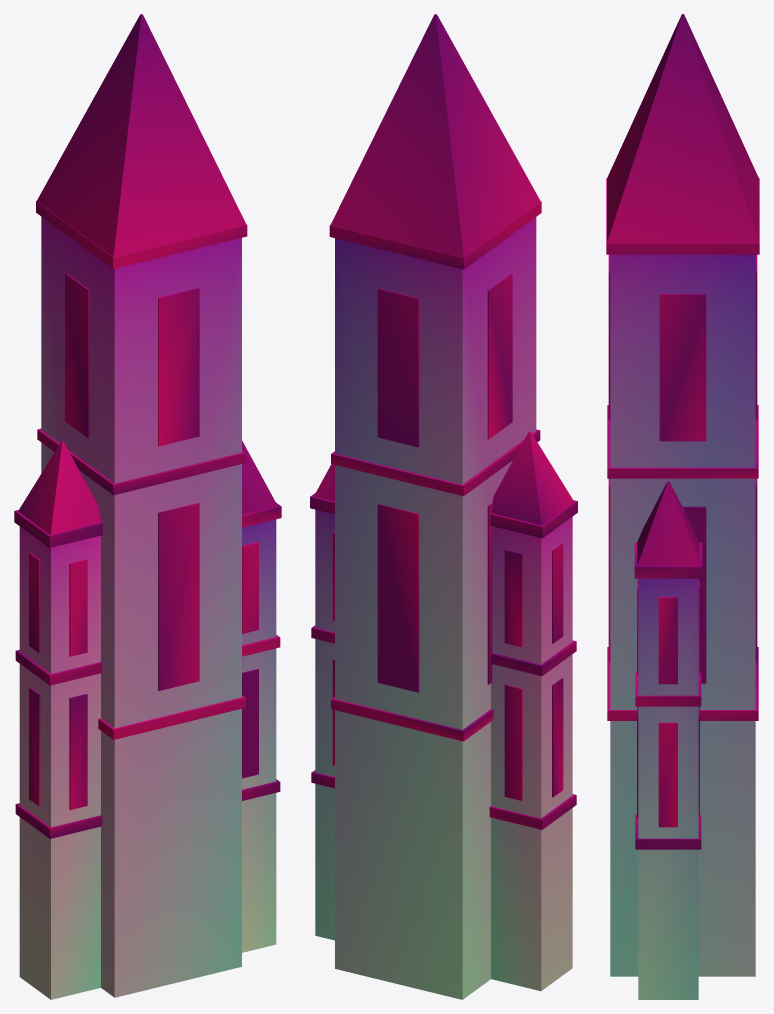
File: radiant_spire_b.glb
3 renders of one model, left to right at view 1: azimuth 30°, elevation 25°; view 2: azimuth 150°, elevation 25°; view 3: azimuth 270°, elevation 25°, orthographic.
Parts seen in each view (by area): view 1: radiant_spire, radiant_spire_win, radiant_cap, radiant_spire_gild, radiant_cap.001, radiant_cap.002; view 2: radiant_spire, radiant_cap, radiant_spire_win, radiant_spire_gild, radiant_cap.001; view 3: radiant_spire, radiant_cap, radiant_spire_win, radiant_spire_gild, radiant_cap.002.
Part boxes in pixels (bbox=[...]): radiant_spire: bbox=[19, 217, 276, 999]; radiant_spire_win: bbox=[29, 273, 258, 809]; radiant_cap: bbox=[37, 14, 246, 257]; radiant_spire_gild: bbox=[14, 201, 281, 838]; radiant_cap.001: bbox=[18, 441, 101, 534]; radiant_cap.002: bbox=[242, 440, 277, 514]; radiant_spire: bbox=[315, 217, 572, 999]; radiant_cap: bbox=[330, 14, 540, 257]; radiant_spire_win: bbox=[332, 273, 563, 800]; radiant_spire_gild: bbox=[310, 201, 577, 829]; radiant_cap.001: bbox=[492, 431, 573, 525]; radiant_spire: bbox=[610, 254, 755, 999]; radiant_cap: bbox=[607, 14, 758, 242]; radiant_spire_win: bbox=[608, 254, 757, 827]; radiant_spire_gild: bbox=[606, 178, 759, 849]; radiant_cap.002: bbox=[637, 481, 699, 566].
Size of the model in its own units: 11.06 by 42.76 by 6.38.
